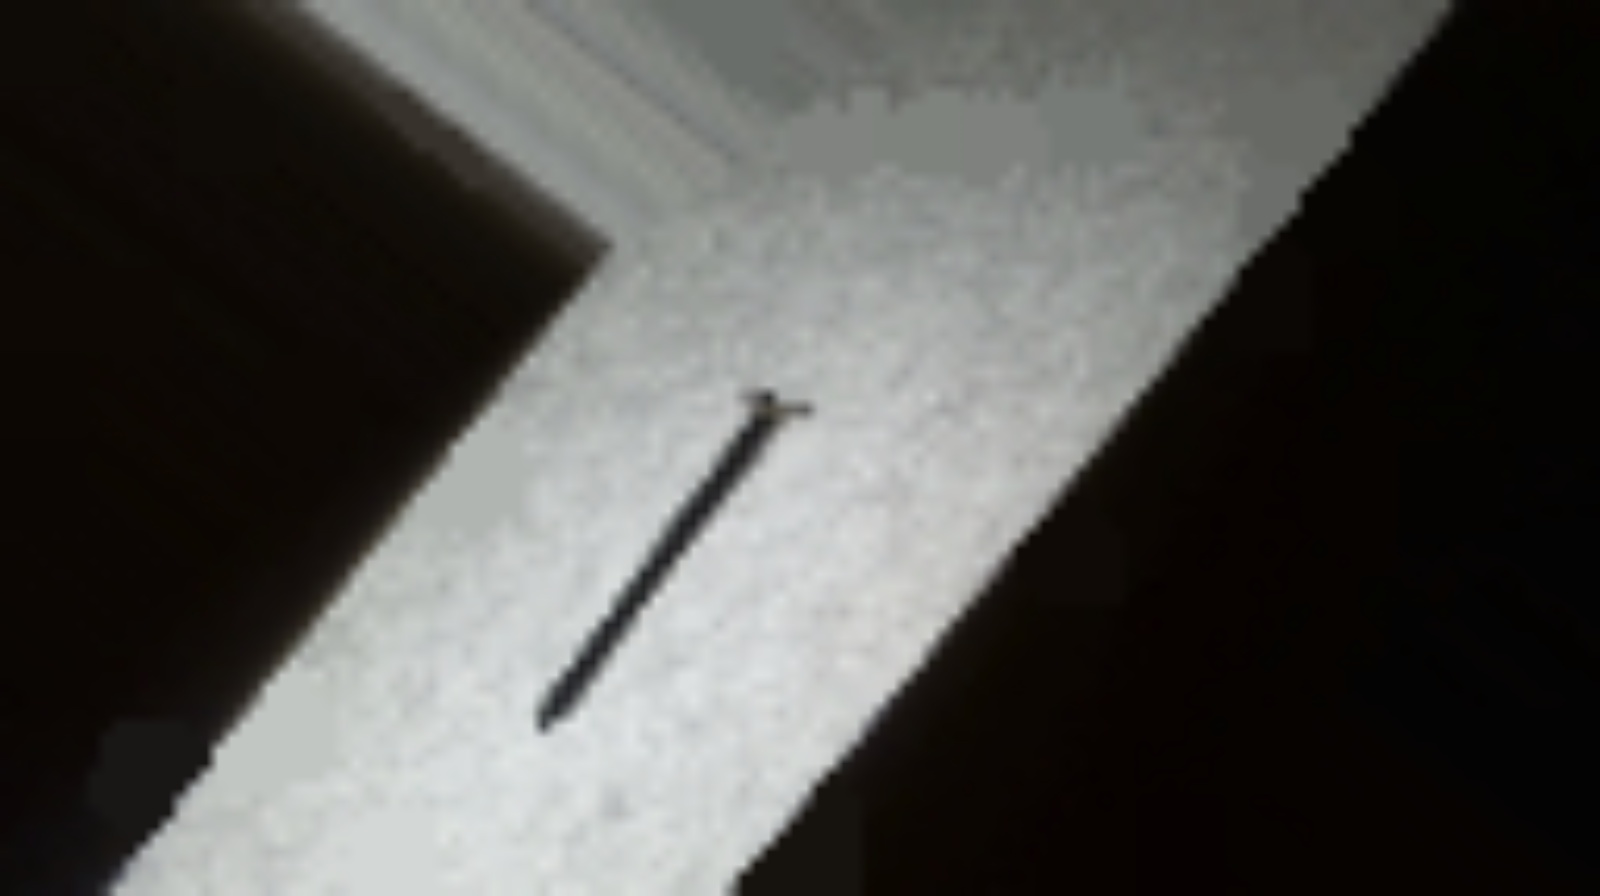S002: (388, 346, 932, 764)
